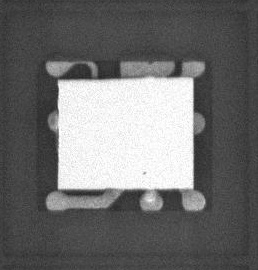DIE_INK: (135, 179, 140, 183)
